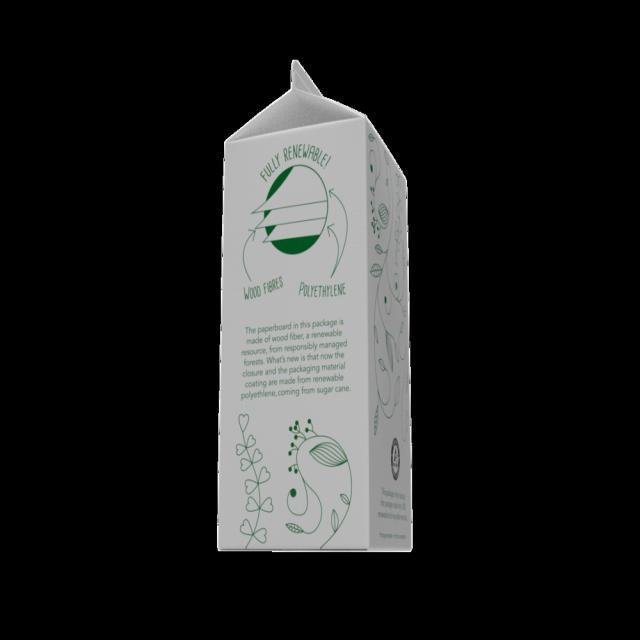Carton: (208, 54, 428, 564)
